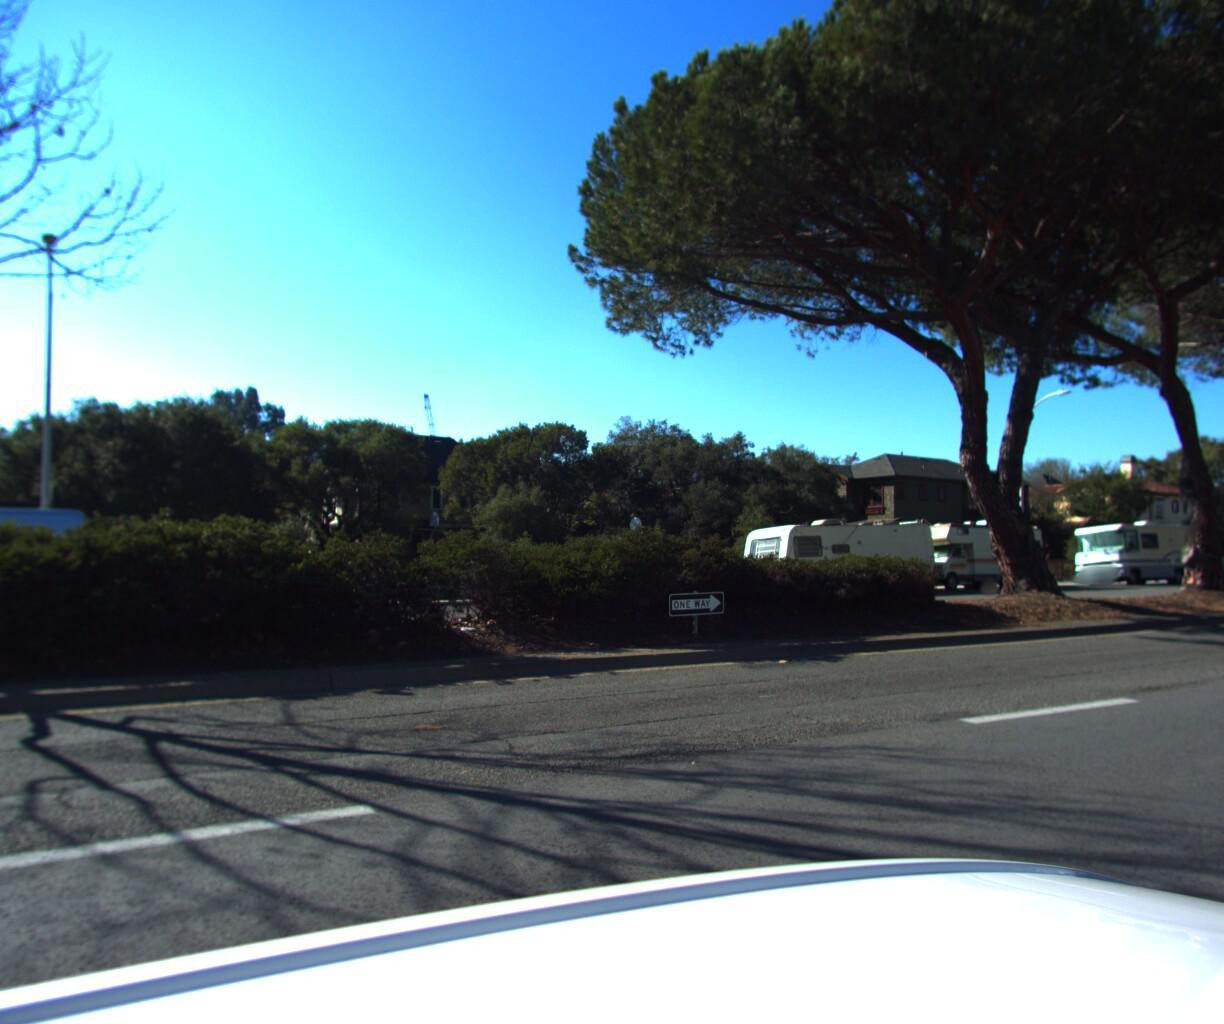car: (0, 483, 105, 634), (1182, 554, 1224, 584)
other_vehicle: (732, 503, 940, 598), (893, 511, 1068, 588), (1061, 515, 1210, 586)
